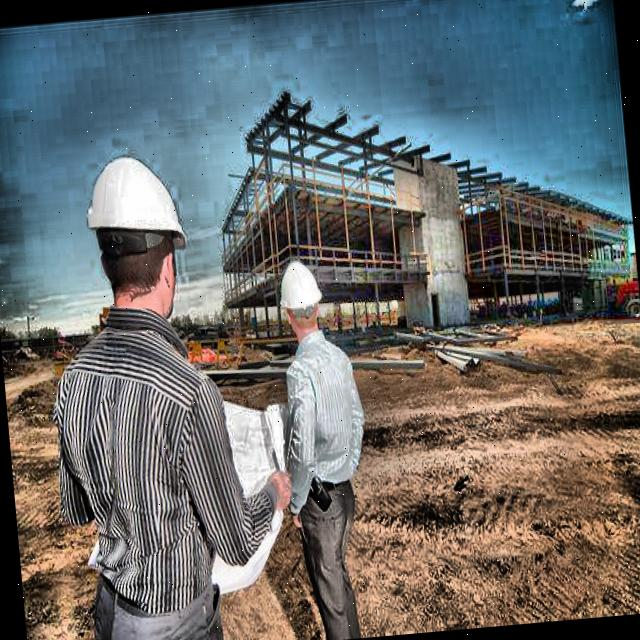helmet: (76, 136, 200, 325), (272, 243, 328, 355)
